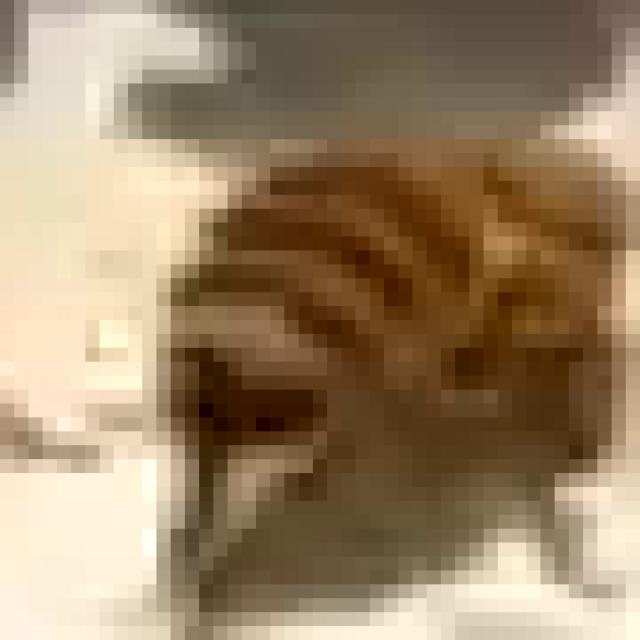honeybee: (97, 124, 619, 476)
